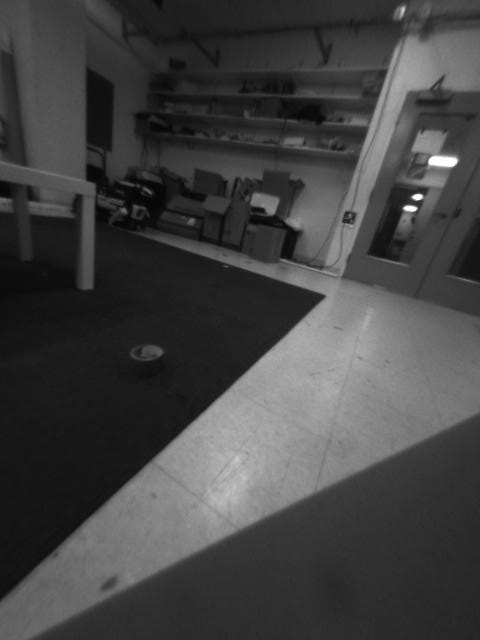dogtoy: (108, 333, 174, 378)
